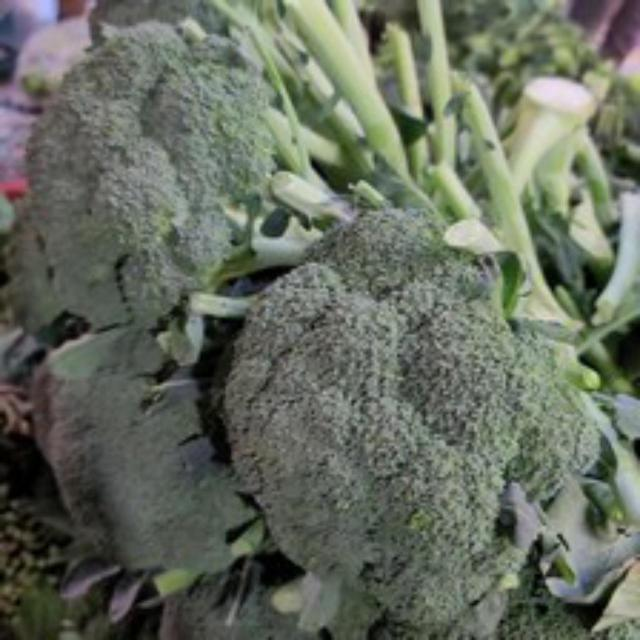broccoli: (217, 194, 597, 637)
